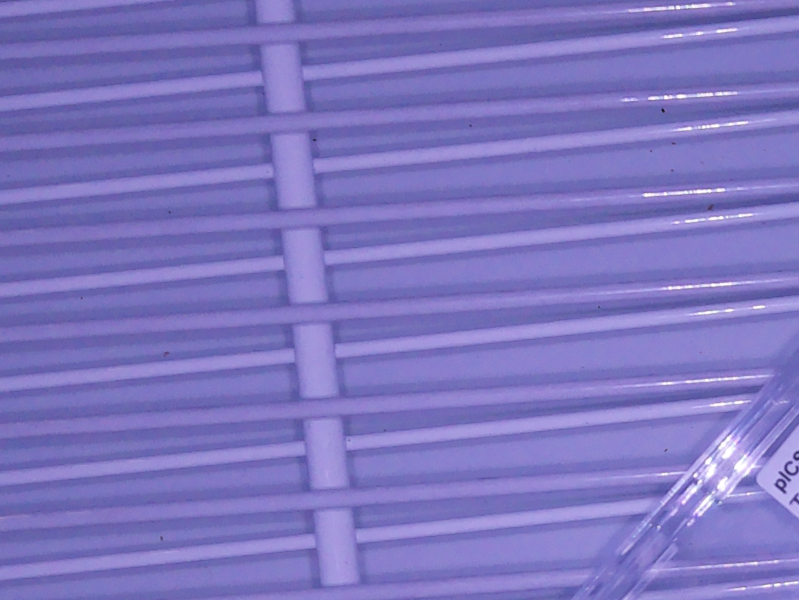plate: (568, 346, 799, 600)
